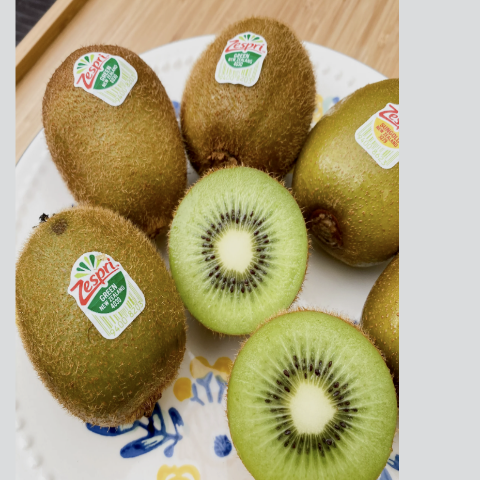kiwi: (7, 188, 207, 425), (43, 23, 184, 249), (171, 11, 330, 188)
